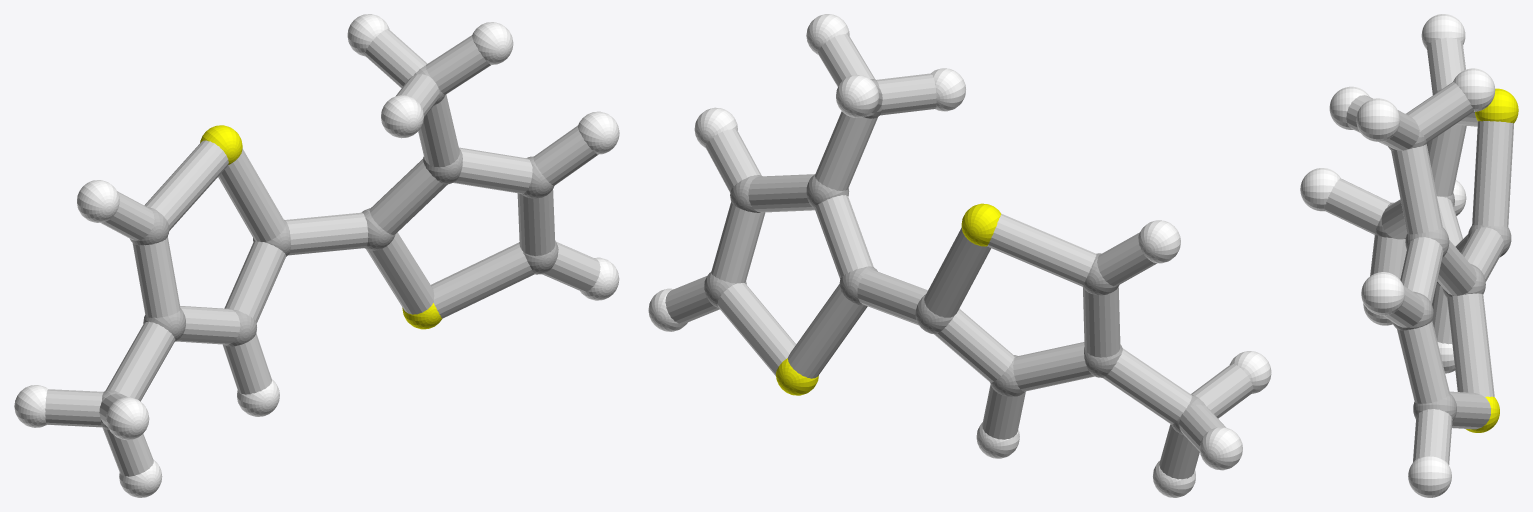
The model's file is color.glb.
3 views of the same model, side by side, from view 1: azimuth 30°, elevation 25°; view 2: azimuth 150°, elevation 25°; view 3: azimuth 270°, elevation 25° (orthographic).
Parts seen in each view (by area): view 1: grp7965, grp3621, grp1, grp7241; view 2: grp7965, grp3621, grp1, grp7241; view 3: grp7965, grp3621, grp1, grp7241.
Part boxes in pixels (x1,y1,x2,y2): grp7965: (45, 29, 600, 476); grp3621: (14, 14, 619, 497); grp1: (101, 65, 558, 429); grp7241: (200, 125, 441, 329); grp7965: (665, 34, 1253, 479); grp3621: (648, 14, 1271, 497); grp1: (704, 79, 1207, 435); grp7241: (776, 203, 1001, 395); grp7965: (1324, 37, 1513, 464); grp3621: (1300, 14, 1495, 497); grp1: (1375, 89, 1511, 421); grp7241: (1466, 88, 1518, 432).
Size of the model in its own units: 9.51 by 5.98 by 2.99.
